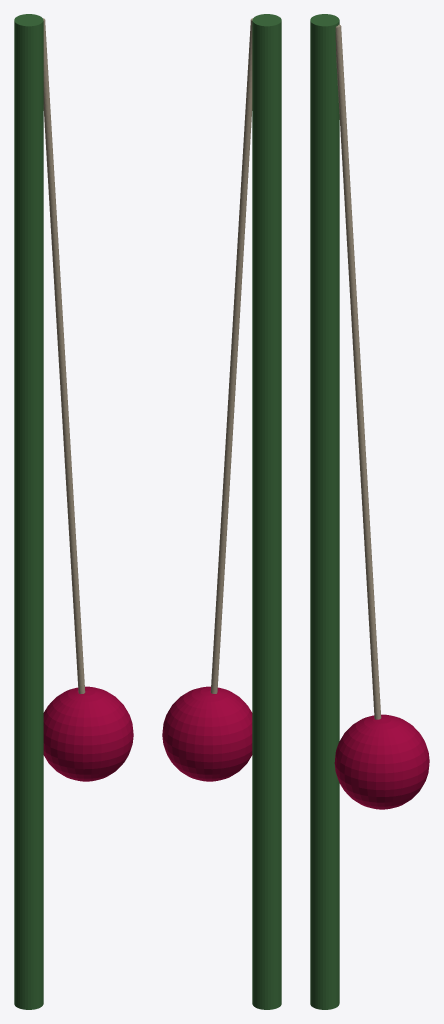
Rendered from thetherball_I.glb.
3 renders of one model, left to right at view 1: azimuth 30°, elevation 25°; view 2: azimuth 150°, elevation 25°; view 3: azimuth 330°, elevation 25°, orthographic.
Visible parts, largest first — view 1: Cylinder, Sphere, Cylinder.001; view 2: Cylinder, Sphere, Cylinder.001; view 3: Cylinder, Sphere, Cylinder.001.
Part boxes in pixels (x1,y1,x2,y2): Cylinder: (14, 14, 43, 1009); Sphere: (43, 686, 133, 781); Cylinder.001: (43, 18, 85, 693); Cylinder: (252, 14, 281, 1009); Sphere: (162, 686, 252, 781); Cylinder.001: (210, 18, 252, 693); Cylinder: (310, 14, 339, 1009); Sphere: (334, 714, 429, 809); Cylinder.001: (335, 24, 381, 719).
Bounding box in the file's own units: 3.26 × 27.55 × 2.42.
